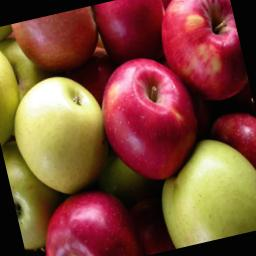Apple Ripe: (0, 47, 165, 213), (91, 26, 222, 186), (24, 154, 195, 256), (148, 0, 250, 108)
